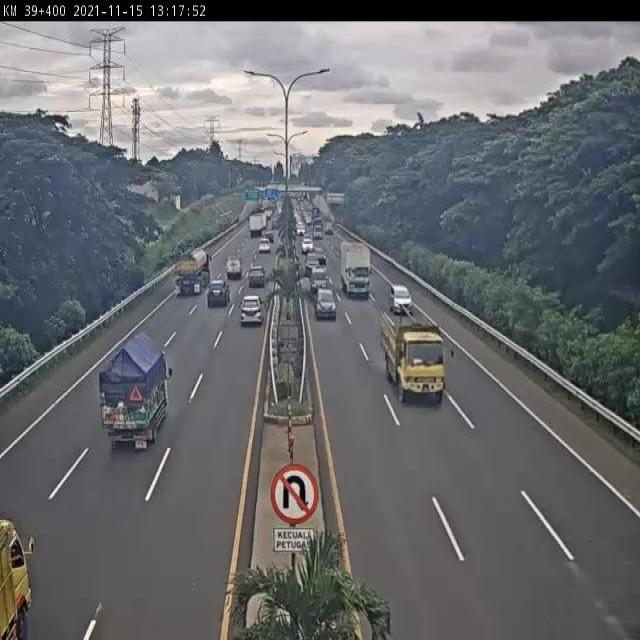car: (239, 292, 263, 325), (389, 284, 413, 315), (316, 288, 338, 320), (206, 282, 227, 310), (310, 267, 330, 292), (247, 264, 267, 288), (225, 258, 242, 278)
truck-m-: (94, 333, 172, 451), (383, 320, 446, 404), (340, 237, 377, 300)
truck-xl-: (175, 249, 209, 299)
